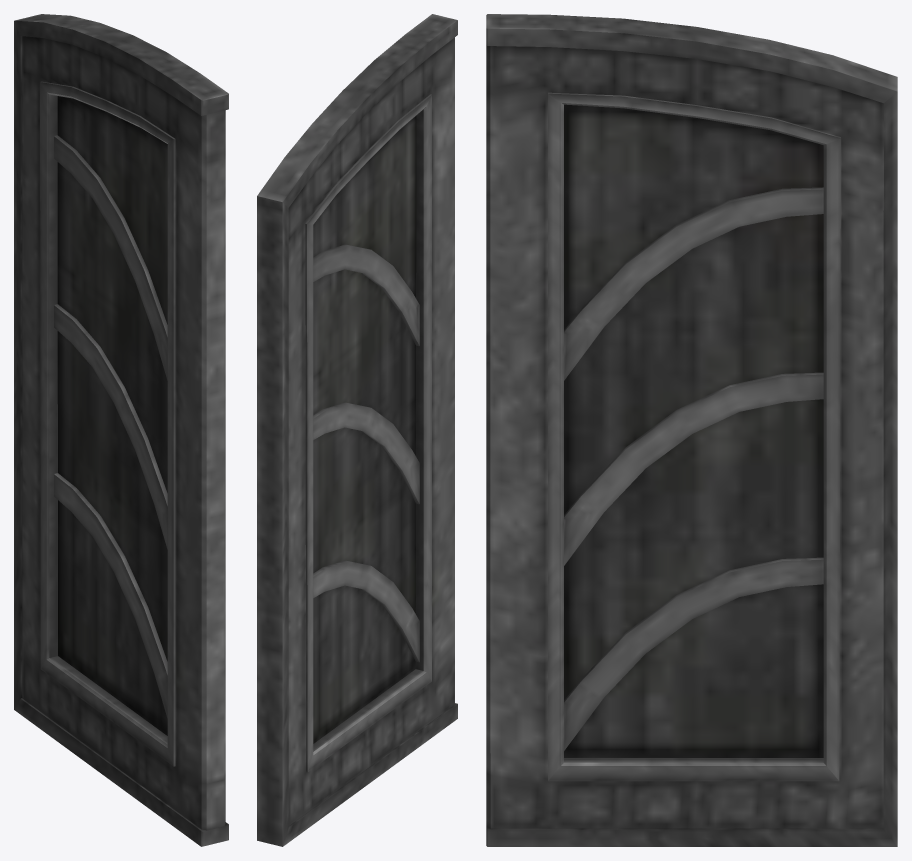
Rendered from SM_GateDoorRight_Stone_498794.glb.
3 views of the same model, side by side, from view 1: azimuth 30°, elevation 25°; view 2: azimuth 150°, elevation 25°; view 3: azimuth 270°, elevation 25° (orthographic). The views are drawn at different scales.
Bounding box in the file's own units: 0.2564 × 6.56 × 2.99.
1 material, 1 textured.
